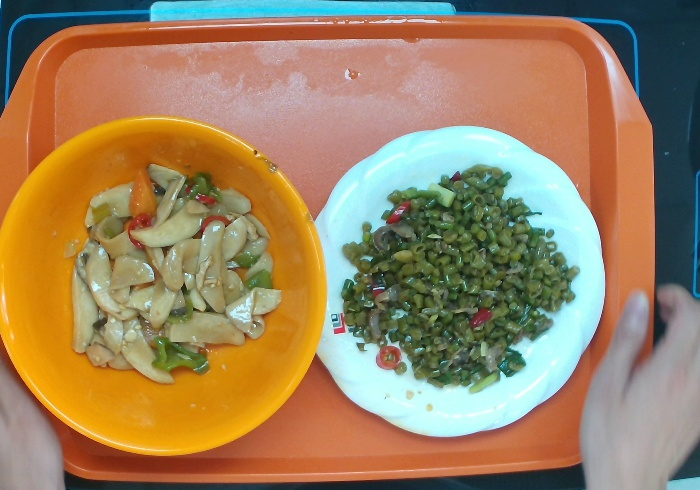ZNLD-Hua_Bian_Wan: (312, 124, 607, 439)
ZNLD-Ju_Se_Tang_Wan: (1, 113, 327, 457)
